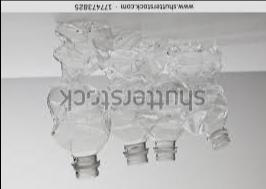Plastic: (43, 17, 116, 180), (137, 38, 191, 165), (174, 38, 228, 155), (104, 32, 151, 164)
